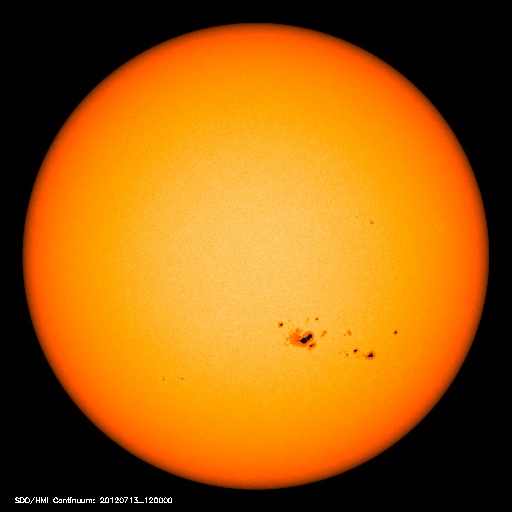sunspot: (269, 308, 406, 368)
